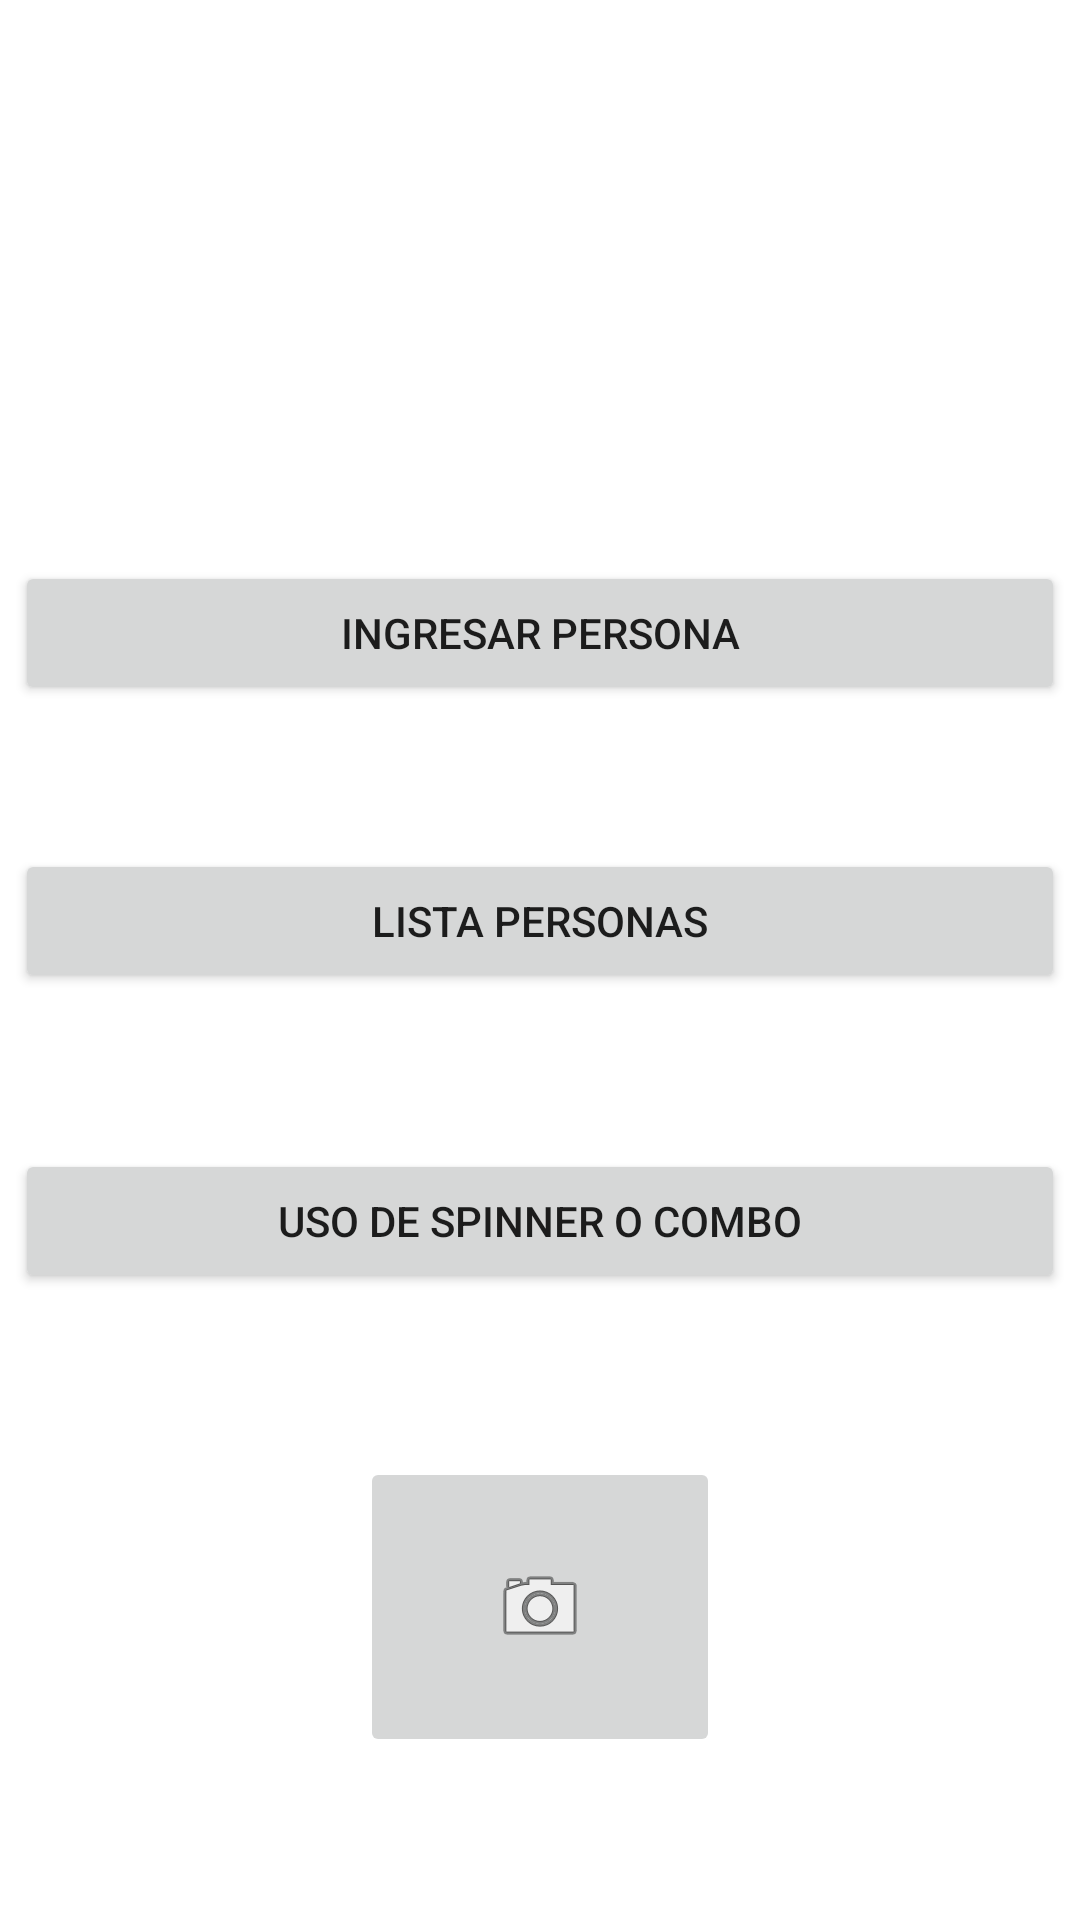

Where to tap for icons on this 1080x1920 app screen, as (x=x, y=y):
camera: (x=540, y=1607)
